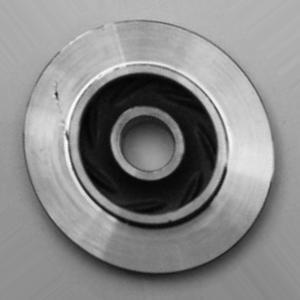defect: (41, 71, 81, 159)
